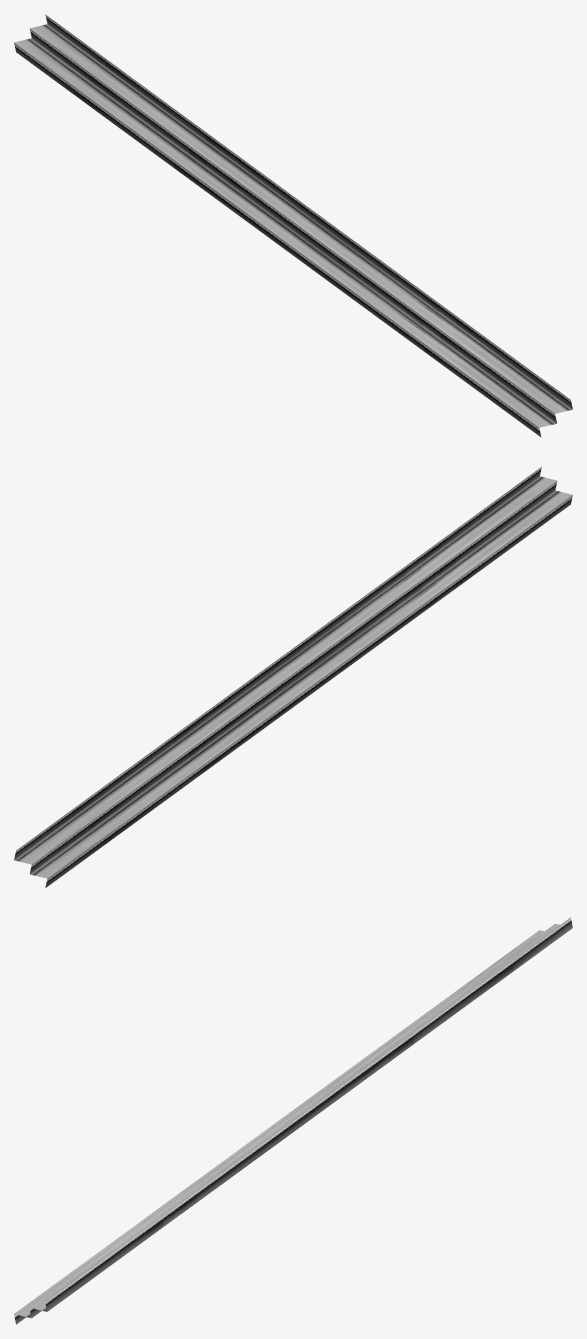
Rendered from TTreppeBreit2Stufen_383.glb.
3 renders of one model, top to bottom at view 1: azimuth 30°, elevation 25°; view 2: azimuth 150°, elevation 25°; view 3: azimuth 330°, elevation 25°, orthographic.
Visible parts, largest first — view 1: pPlaneShape48; view 2: pPlaneShape48; view 3: pPlaneShape48.
Boxes of the visible parts, x1,y1,x2,y2 form: pPlaneShape48: [14, 14, 572, 437]; pPlaneShape48: [14, 467, 572, 887]; pPlaneShape48: [14, 917, 572, 1324].
Size of the model in its own units: 0.1131 by 0.0974 by 3.
Materials: 1 (1 with a texture image).
